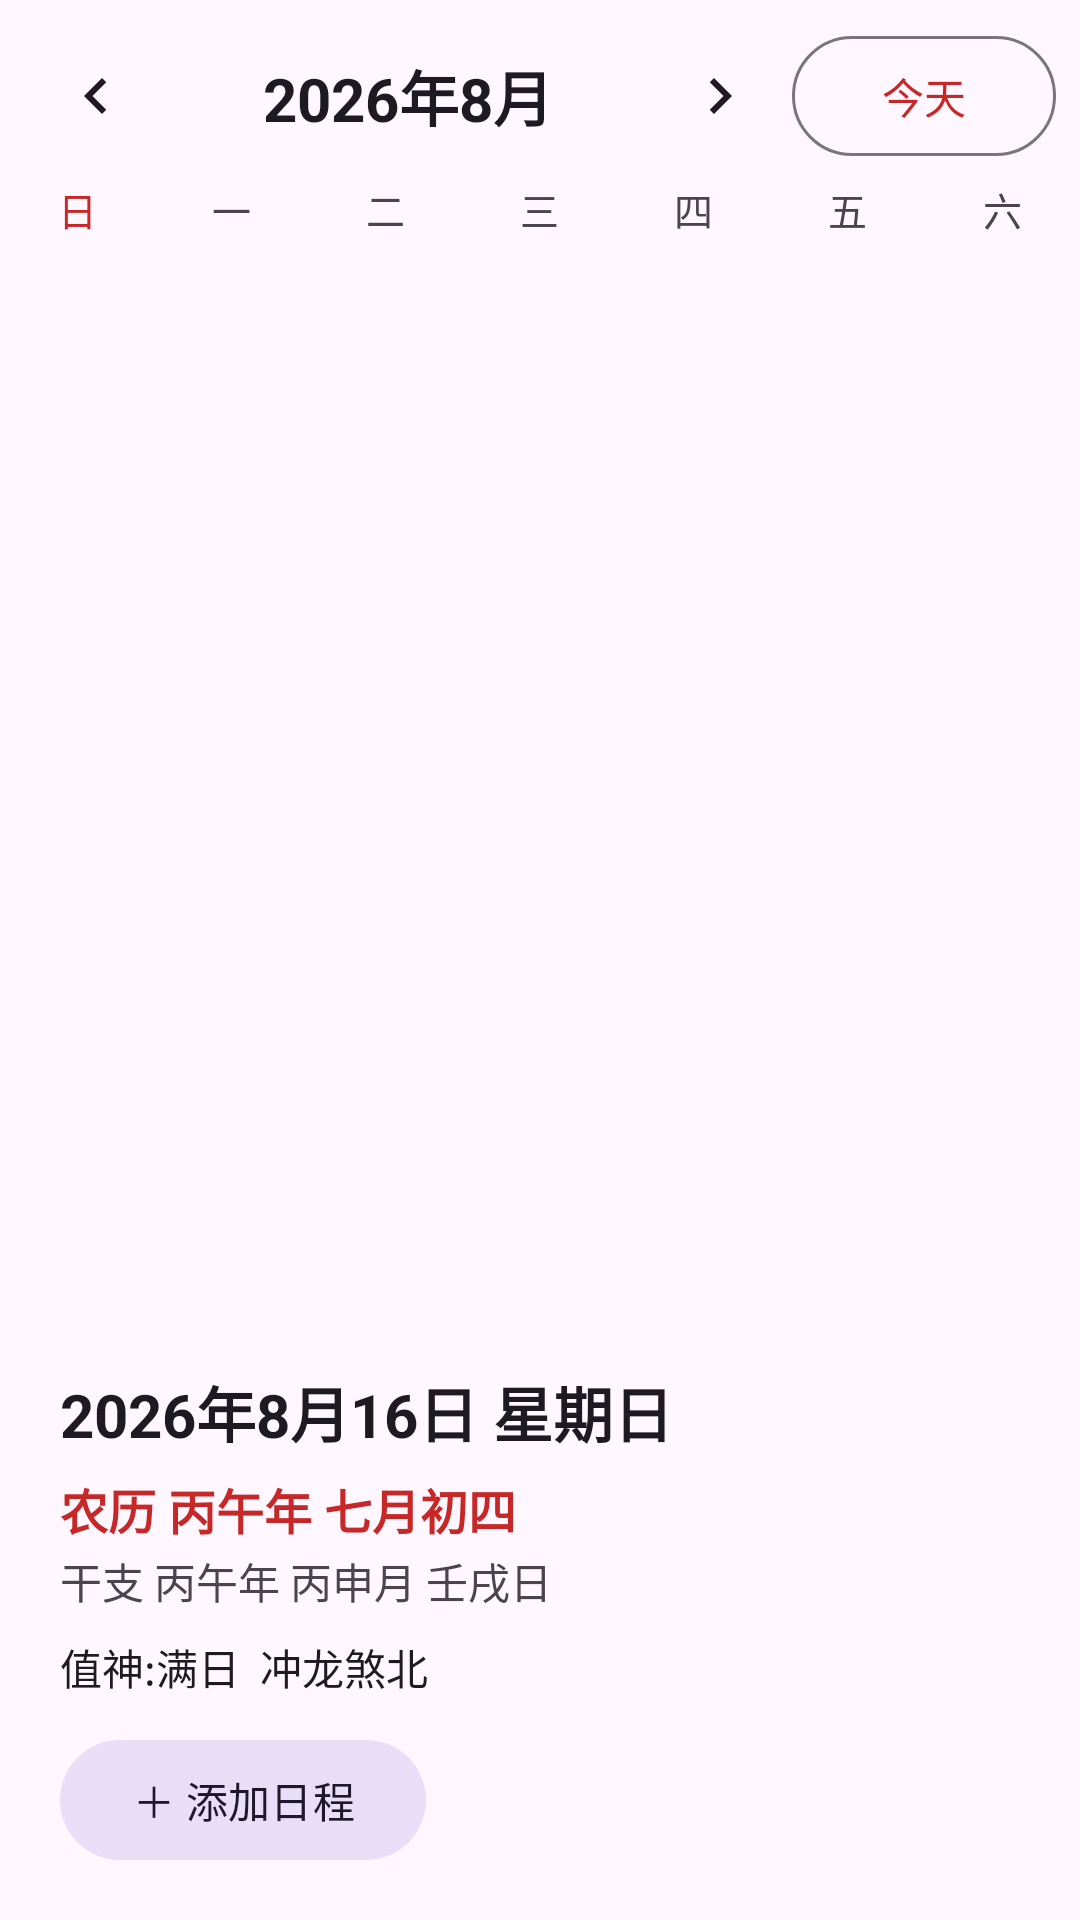

Icons on this 1080x1920 Android screen, each with the point to tap as (x=x, y=y):
上一月: (x=95, y=96)
下一月: (x=721, y=96)
